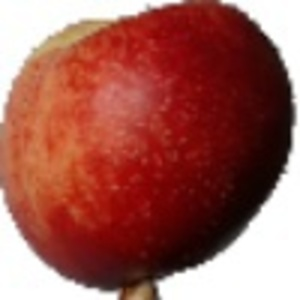nectarina: (1, 1, 298, 300)
